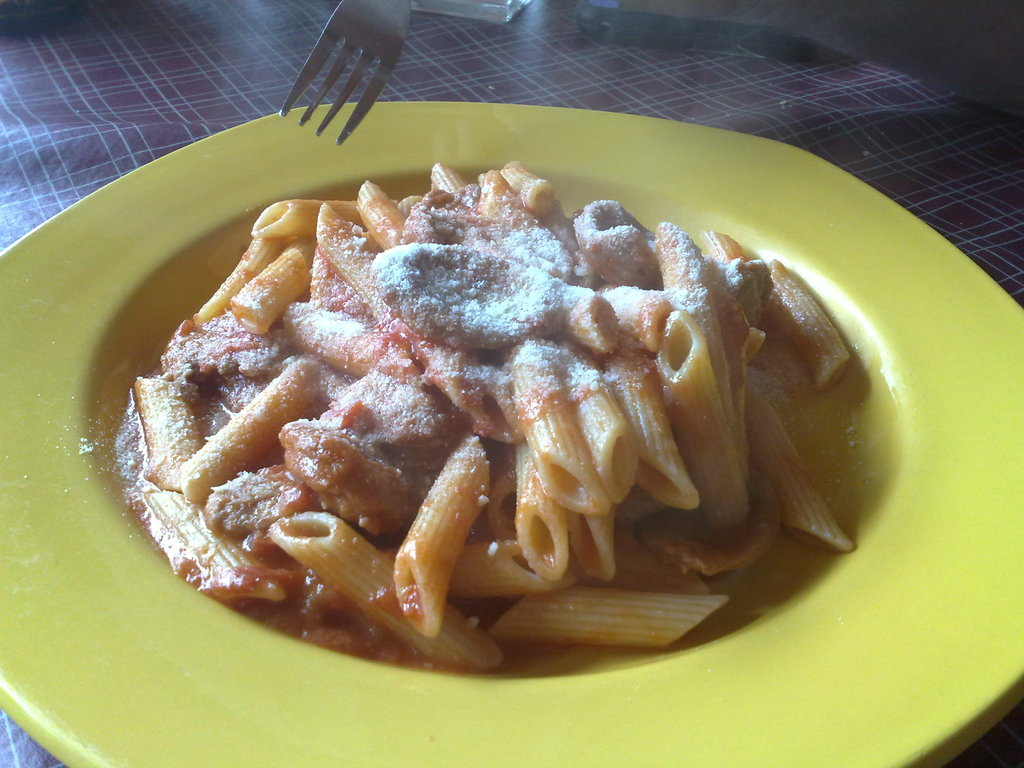pasta: (64, 164, 888, 655)
